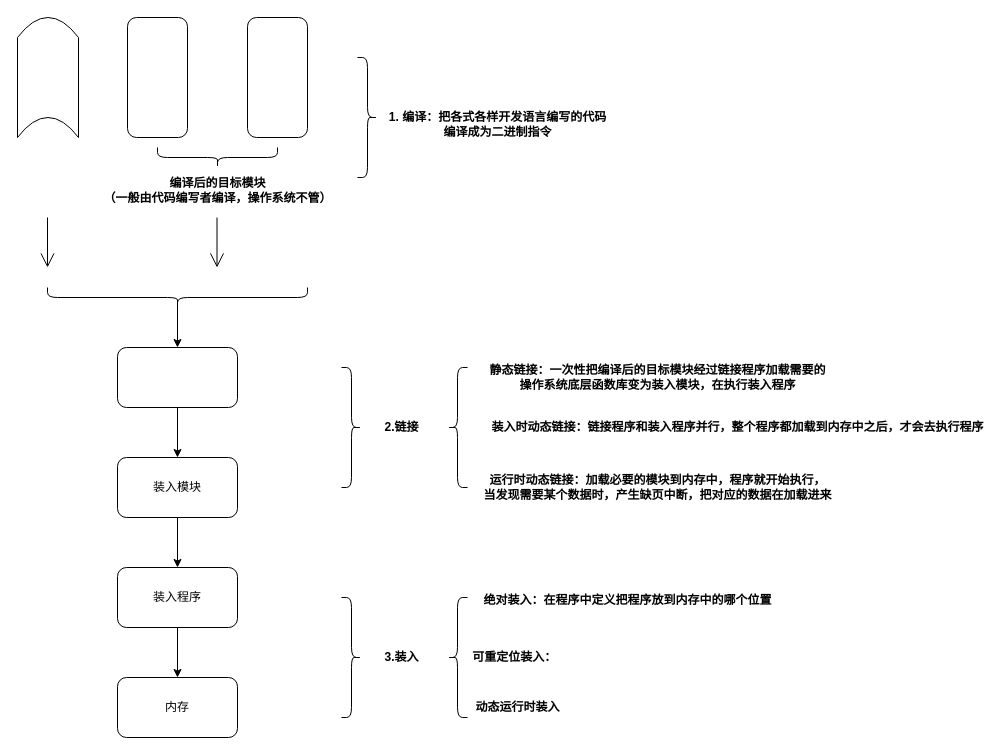
Image size: 1001x755. Some labels were removed from this diagram. Here are the shapes that lost their labels. From the top down, the centre of each, then its label:
At [47,77]: "操作系统底层函数库".
At [177,377]: "链接程序".
